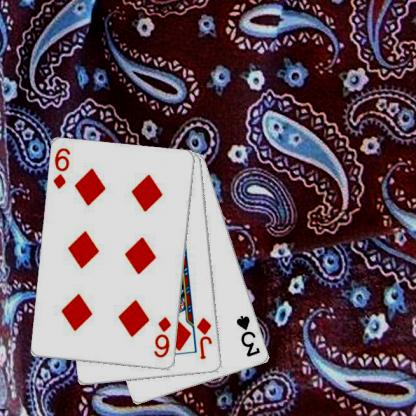3S: (234, 313, 262, 358)
6D: (51, 146, 72, 190), (152, 314, 172, 360)
JD: (194, 315, 214, 361)
